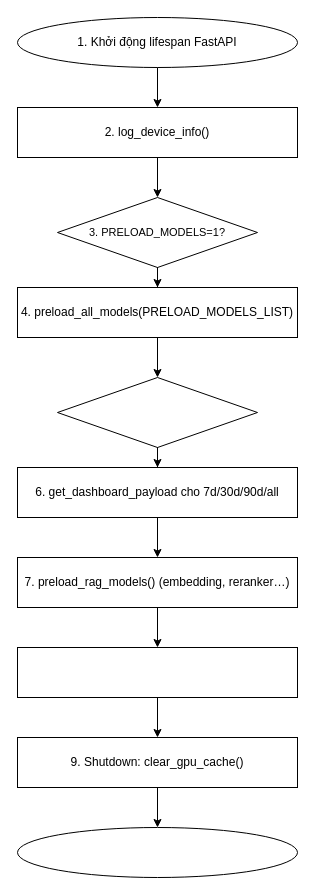
This 315x895 diagram has some shape labels left out. The centre of each missing label's shape, as x and y in pixels:
"10. Máy chủ lắng nghe / tắt an toàn" belongs at point 157,852.
"5. WARM_ANALYTICS_CACHE=1?" belongs at point 157,412.
"8. log_all_model_devices() → API ready" belongs at point 157,672.
